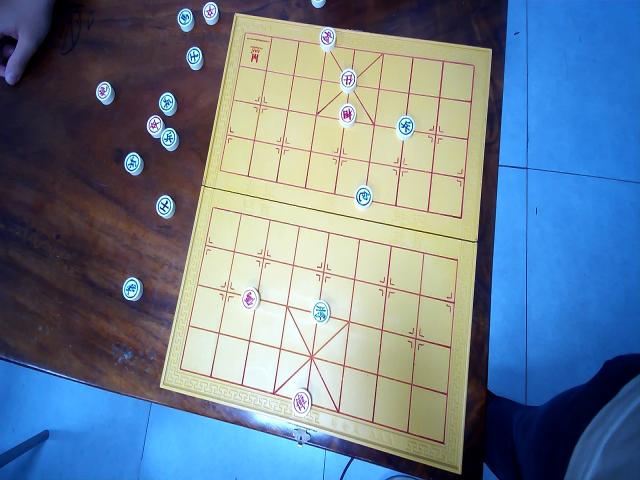piece: (292, 389, 311, 416), (123, 277, 143, 301), (156, 195, 175, 219), (202, 1, 220, 26), (396, 116, 414, 141), (124, 152, 143, 175), (96, 81, 114, 105), (354, 185, 372, 209), (242, 286, 260, 310), (339, 103, 356, 128), (312, 300, 330, 323), (161, 128, 179, 151), (340, 68, 356, 93), (319, 27, 335, 52), (147, 115, 165, 137), (159, 92, 176, 115), (177, 8, 194, 31), (186, 47, 203, 70), (311, 0, 325, 8)
